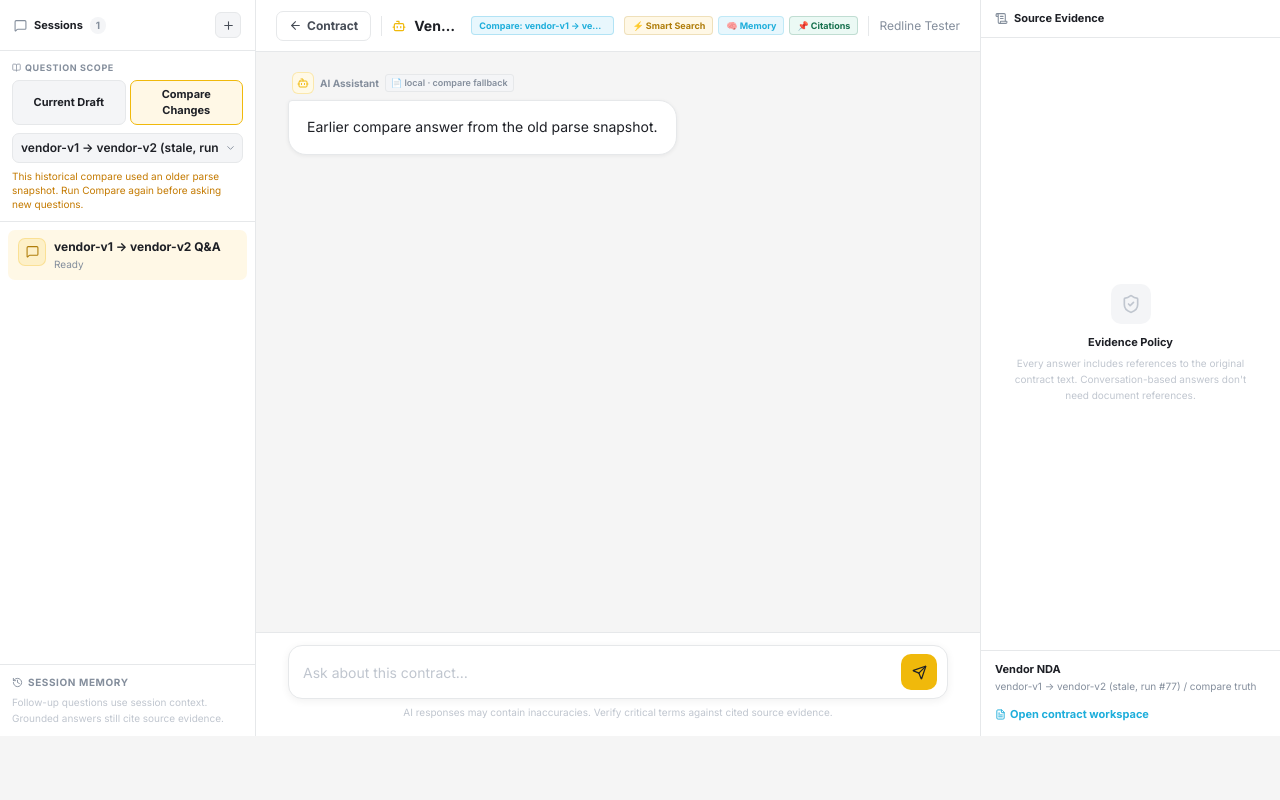
it: ContractChatPage › keeps stale historical compare sessions readable but blocks new questions
Expected: the text "Earlier compare answer from the old parse snapshot." is shown, [307,115,658,140]
Expected: the text "📄 local · compare fallback" is shown, [385,74,514,92]
Type "What changed now?" into the text box labelled "Ask about this contract…" at (598, 672), box [303,662,893,682]
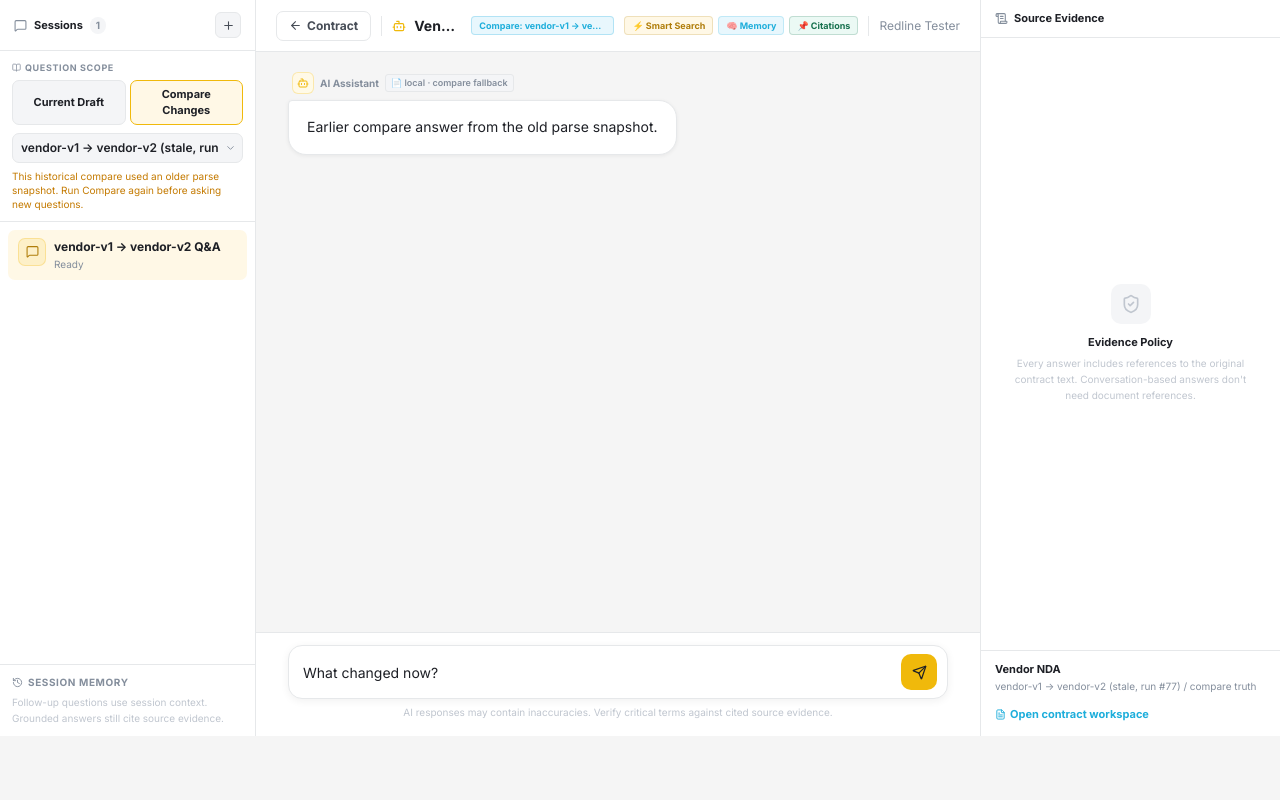
Click the button named "send message" at (919, 672), box [901,654,937,690]
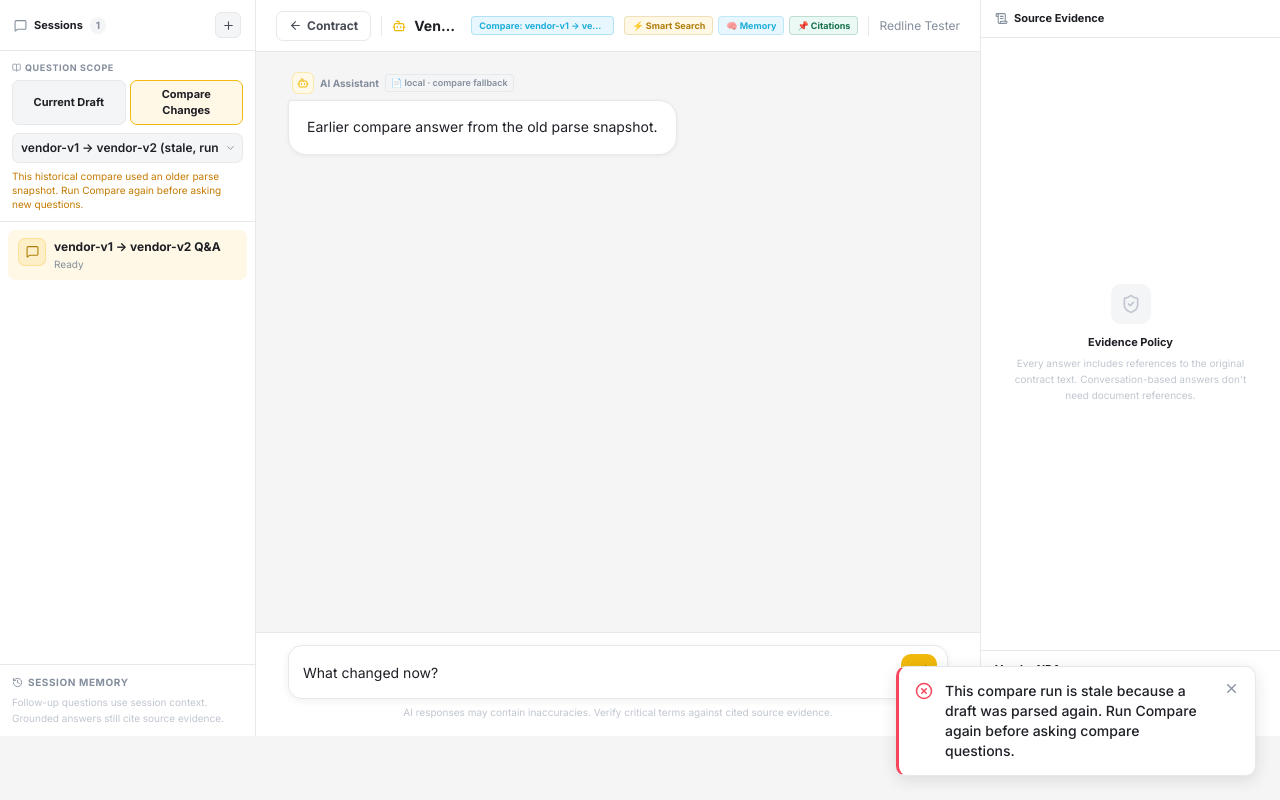
Result: the text "asking compare questions" is shown at [945,682,1197,759]
